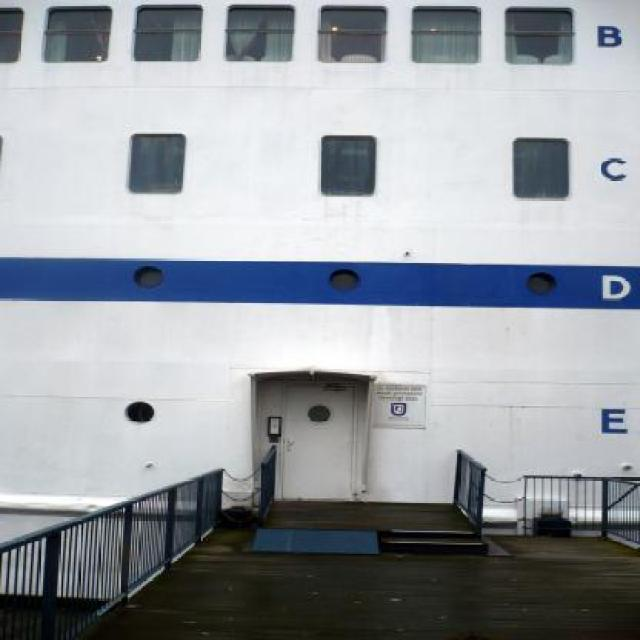stair: (378, 528, 514, 555)
